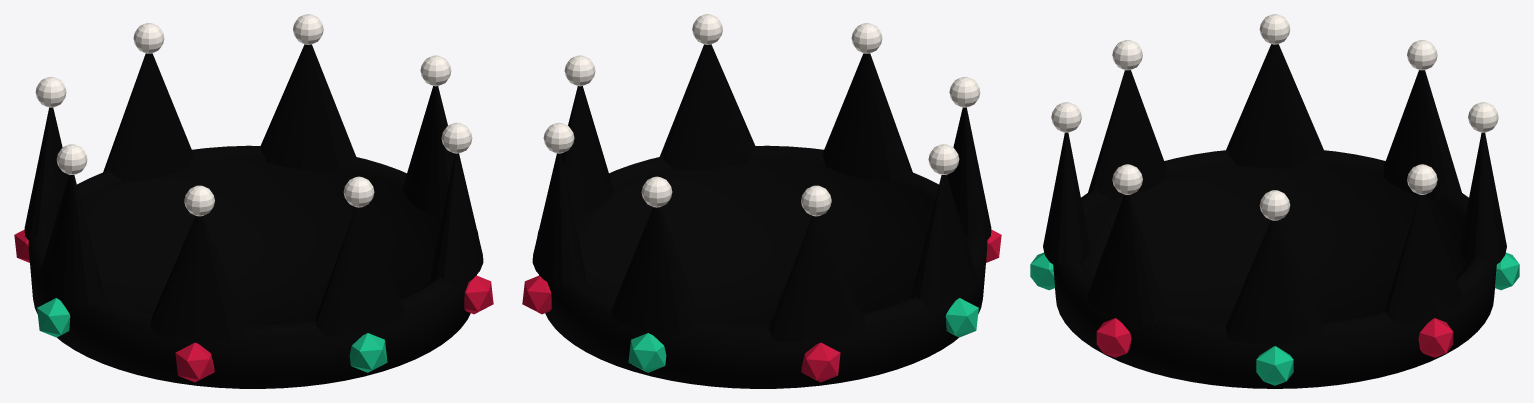
Rendered from mukut.glb.
3 renders of one model, left to right at view 1: azimuth 30°, elevation 25°; view 2: azimuth 150°, elevation 25°; view 3: azimuth 270°, elevation 25°, orthographic.
Visible parts, largest first — view 1: mukut; view 2: mukut; view 3: mukut.
Part boxes in pixels (x1=…): mukut: x1=14, y1=14, x2=493, y2=388; mukut: x1=522, y1=14, x2=1001, y2=388; mukut: x1=1030, y1=14, x2=1519, y2=388.
Size of the model in its own units: 2.24 by 1.01 by 2.23.
1 material, 1 textured.
